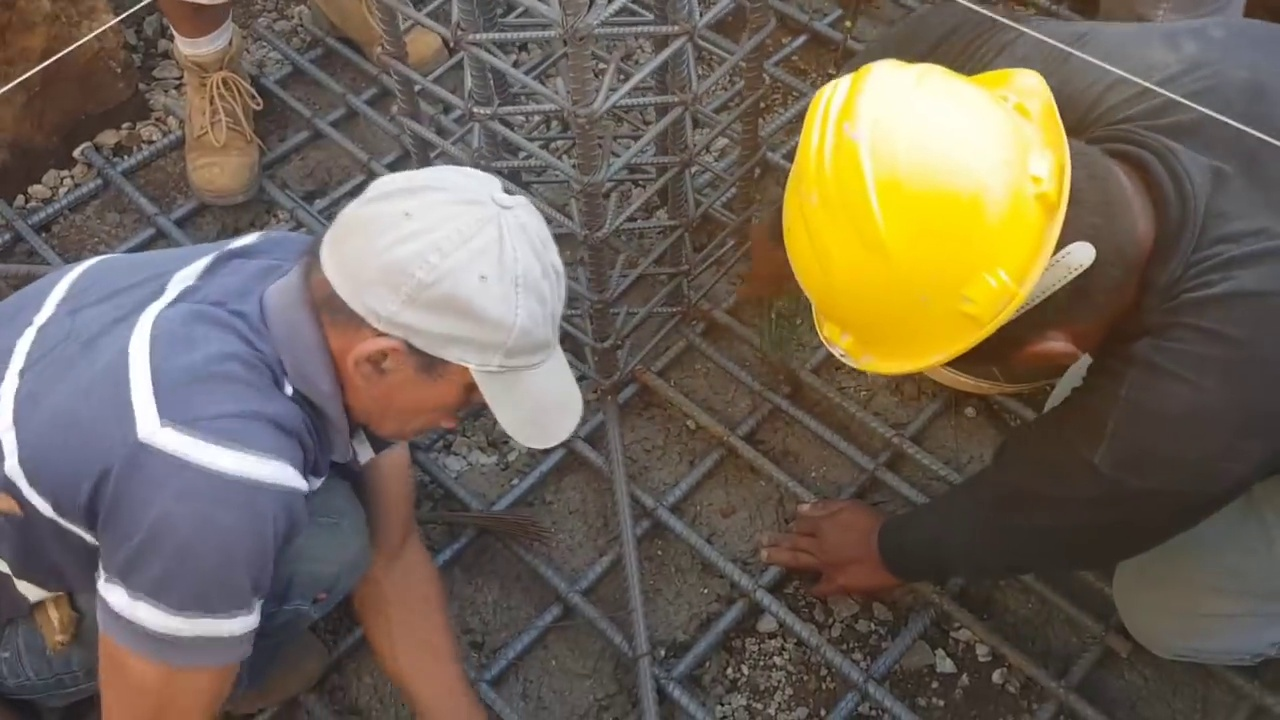helmet: (780, 61, 1089, 392)
helmet-off: (311, 167, 582, 455)
helmet-on: (781, 59, 1196, 398)
person: (781, 8, 1280, 662), (0, 171, 583, 720)
